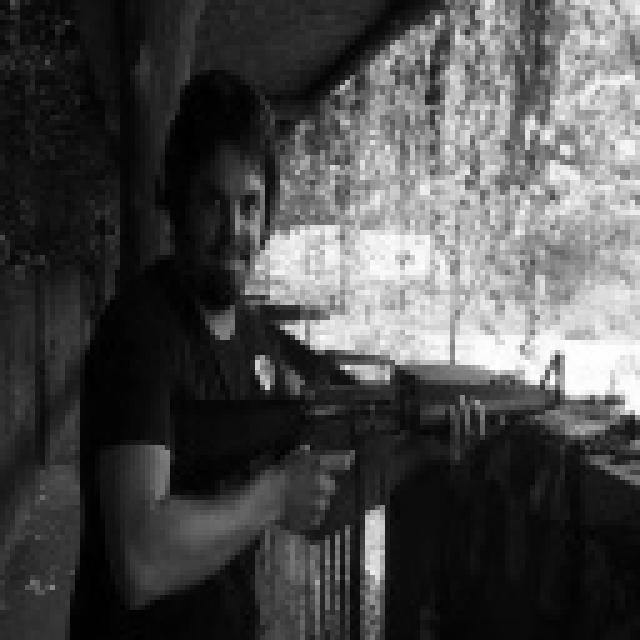Rifle: (226, 332, 639, 544)
